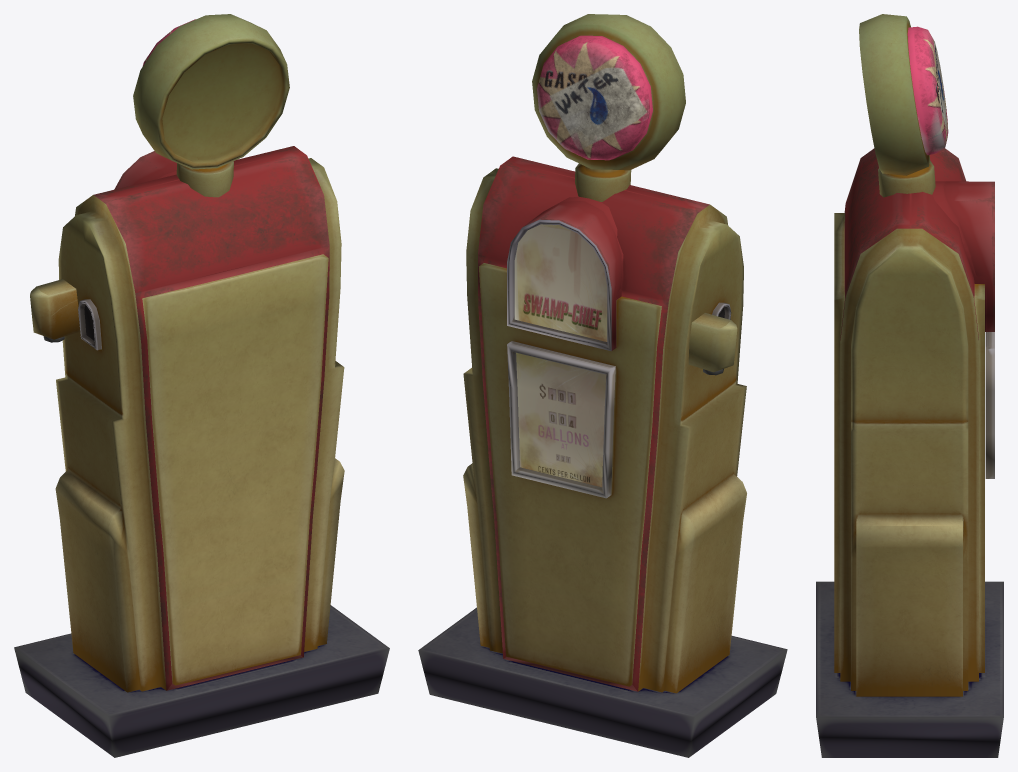
File: GasPump.fbx
The picture shows the model from 3 angles, left to right: view 1: azimuth 30°, elevation 25°; view 2: azimuth 150°, elevation 25°; view 3: azimuth 270°, elevation 25°; orthographic projection.
Visible parts, largest first — view 1: gasPump_low; view 2: gasPump_low; view 3: gasPump_low.
Part boxes in pixels (x1=…): gasPump_low: x1=14, y1=14, x2=389, y2=757; gasPump_low: x1=418, y1=14, x2=787, y2=757; gasPump_low: x1=816, y1=14, x2=1003, y2=757.
Bounding box in the file's own units: 2.87 × 6.33 × 1.6.
